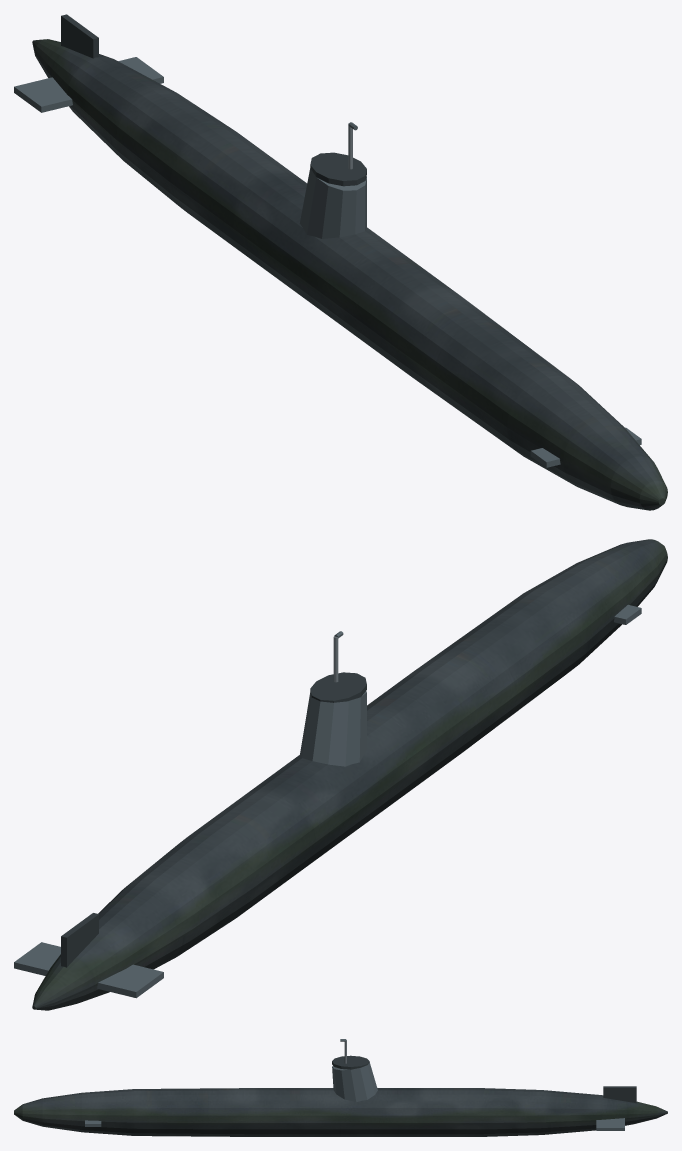
The model's file is ko-hyoteki.glb.
3 views of the same model, one above another, from view 1: azimuth 30°, elevation 25°; view 2: azimuth 150°, elevation 25°; view 3: azimuth 270°, elevation 25° (orthographic). The views are drawn at different scales.
Visible parts, largest first — view 1: hullPaint, shade, dark; view 2: hullPaint, shade, dark; view 3: hullPaint, shade, dark.
Boxes of the visible parts, box(x1,y1,x2,y2) form: hullPaint: box(32, 39, 667, 510); shade: box(14, 57, 641, 467); dark: box(61, 14, 366, 186); hullPaint: box(32, 539, 667, 1010); shade: box(14, 604, 641, 998); dark: box(61, 672, 366, 967); hullPaint: box(14, 1088, 667, 1136); shade: box(85, 1039, 624, 1130); dark: box(332, 1055, 636, 1103).
Size of the model in its own units: 2.7 by 3.95 by 24.
4 materials, 1 textured.
